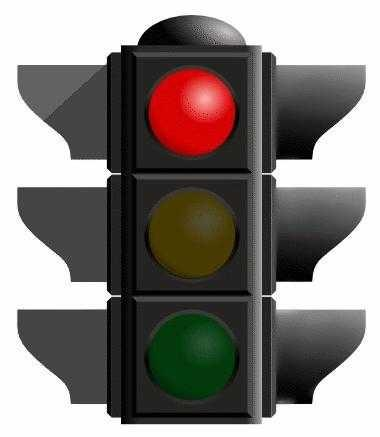red: (118, 41, 260, 421), (132, 42, 247, 169)
